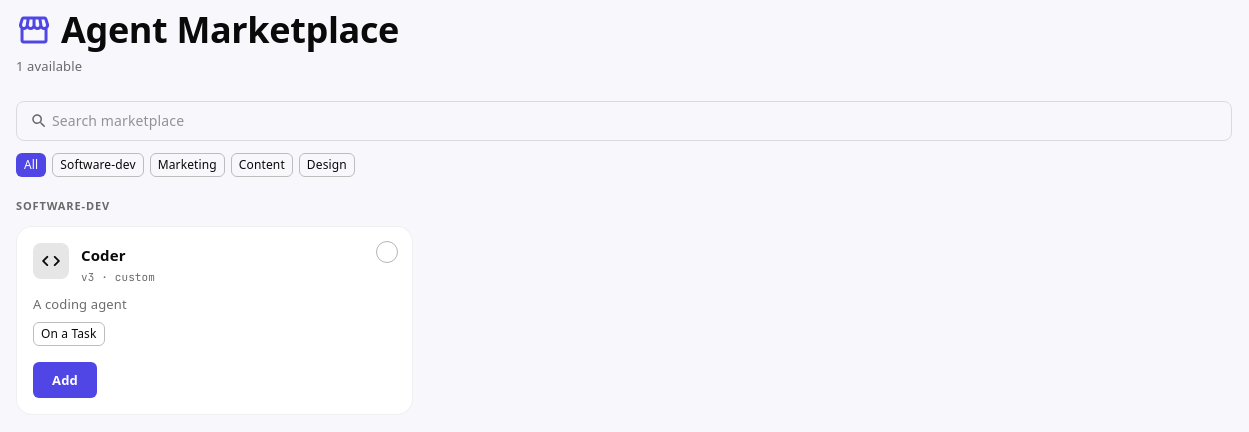
Marketplace page › renders no-filter-match message when data is empty after filter
The image size is (1249, 432).
expect the text "Coder" is shown: met, box left=81, top=245, right=126, bottom=265
Click the button "Content": (262, 165) left=231, top=153, right=293, bottom=177
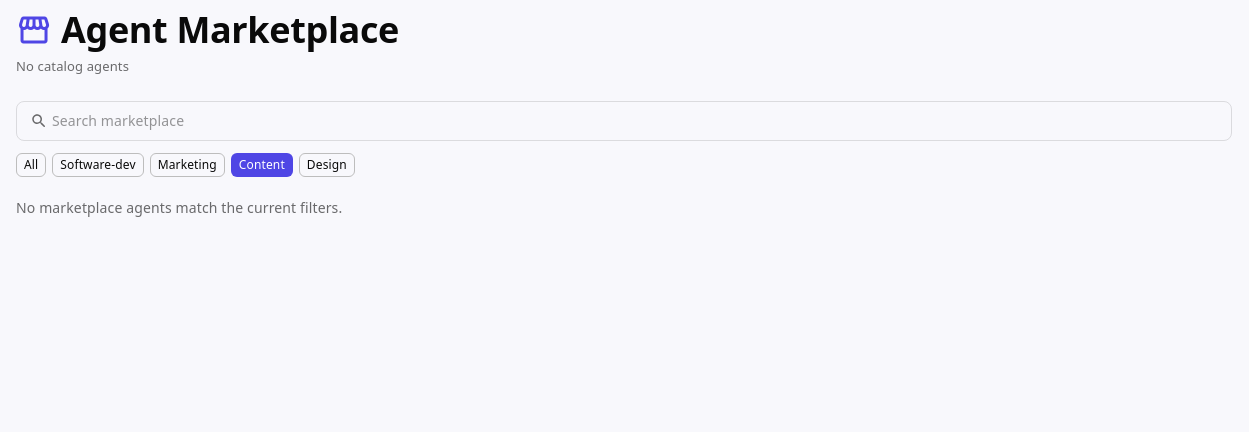
expect the text "No marketplace agents match the current filters." is shown: met, box left=16, top=198, right=342, bottom=217
